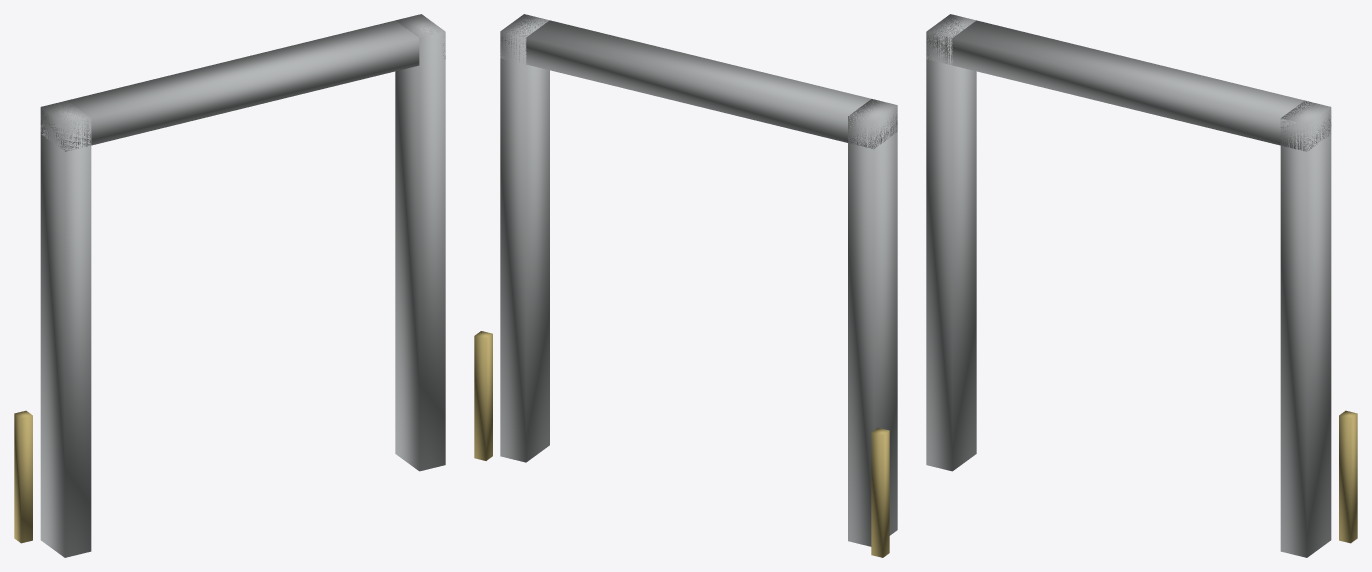
The model's file is atrium_edge_industrial_w220_h260_d28.glb.
3 views of the same model, side by side, from view 1: azimuth 30°, elevation 25°; view 2: azimuth 150°, elevation 25°; view 3: azimuth 330°, elevation 25° (orthographic).
Parts seen in each view (by area): view 1: world; view 2: world; view 3: world.
Part boxes in pixels (x1=…): world: x1=14, y1=14, x2=445, y2=557; world: x1=474, y1=14, x2=897, y2=557; world: x1=926, y1=14, x2=1357, y2=557.
Bounding box in the file's own units: 2.79 × 2.78 × 0.38.
